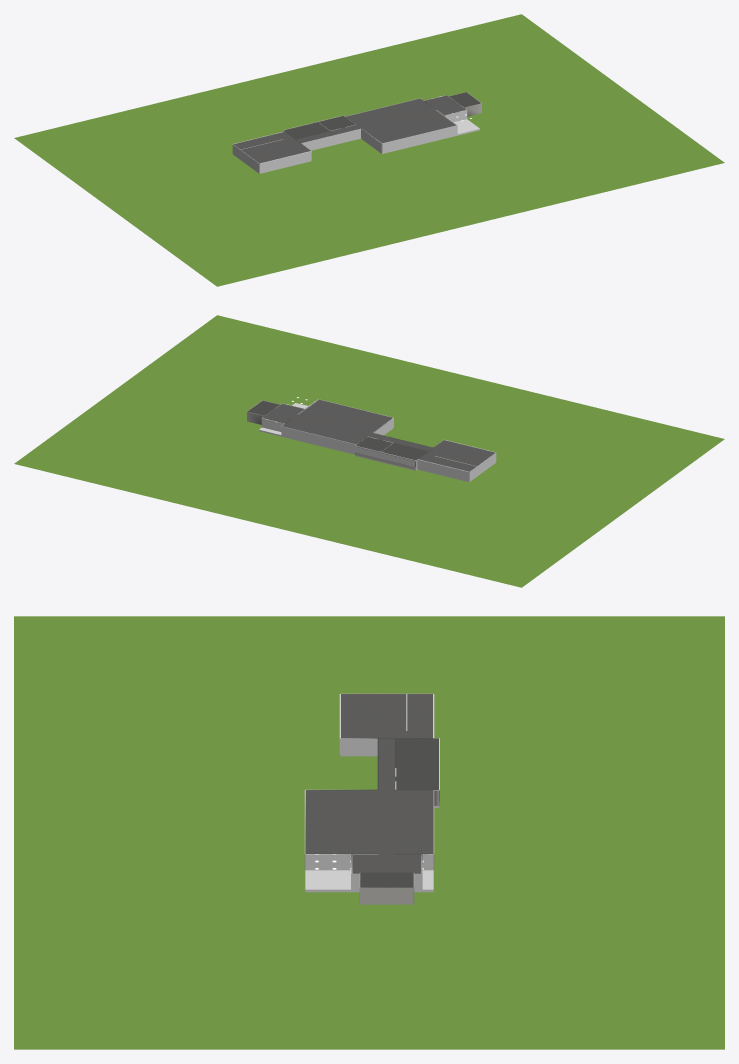
Rendered from zone_05_office.glb.
3 renders of one model, top to bottom at view 1: azimuth 30°, elevation 25°; view 2: azimuth 150°, elevation 25°; view 3: azimuth 270°, elevation 25°, orthographic. The views are drawn at different scales.
Visible parts, largest first — view 1: ENV_san_ngoai_van_phong, ENV_vo_phong, ENV_phong_phu_hanh_lang, COL_vp_tuong_nam, COL_hanh_lang_cua_so, COL_phu_nam, COL_san; view 2: ENV_san_ngoai_van_phong, ENV_vo_phong, ENV_phong_phu_hanh_lang, COL_vp_tuong_bac, COL_phu_bac, phong_hop_mentor_mesh; view 3: ENV_san_ngoai_van_phong, ENV_vo_phong, ENV_phong_phu_hanh_lang, COL_san, phong_hop_mentor_mesh, COL_vach_luc_giac_nam.
Boxes of the visible parts, x1,y1,x2,y2 form: ENV_san_ngoai_van_phong: (14,14,724,286); ENV_vo_phong: (345,92,481,152); ENV_phong_phu_hanh_lang: (233,125,360,172); COL_vp_tuong_nam: (382,125,457,152); COL_hanh_lang_cua_so: (301,128,360,149); COL_phu_nam: (259,151,311,172); COL_san: (361,119,479,153); ENV_san_ngoai_van_phong: (14,315,724,587); ENV_vo_phong: (247,397,393,444); ENV_phong_phu_hanh_lang: (368,433,495,471); COL_vp_tuong_bac: (281,426,355,453); COL_phu_bac: (417,459,469,480); phong_hop_mentor_mesh: (355,437,392,461); ENV_san_ngoai_van_phong: (14,616,724,1049); ENV_vo_phong: (304,789,434,904); ENV_phong_phu_hanh_lang: (340,693,433,789); COL_san: (305,870,433,892); phong_hop_mentor_mesh: (395,768,439,805); COL_vach_luc_giac_nam: (305,854,377,870).
Bounding box in the file's own units: 176 × 7.4 × 122.
Materials: 11 (7 with a texture image).
